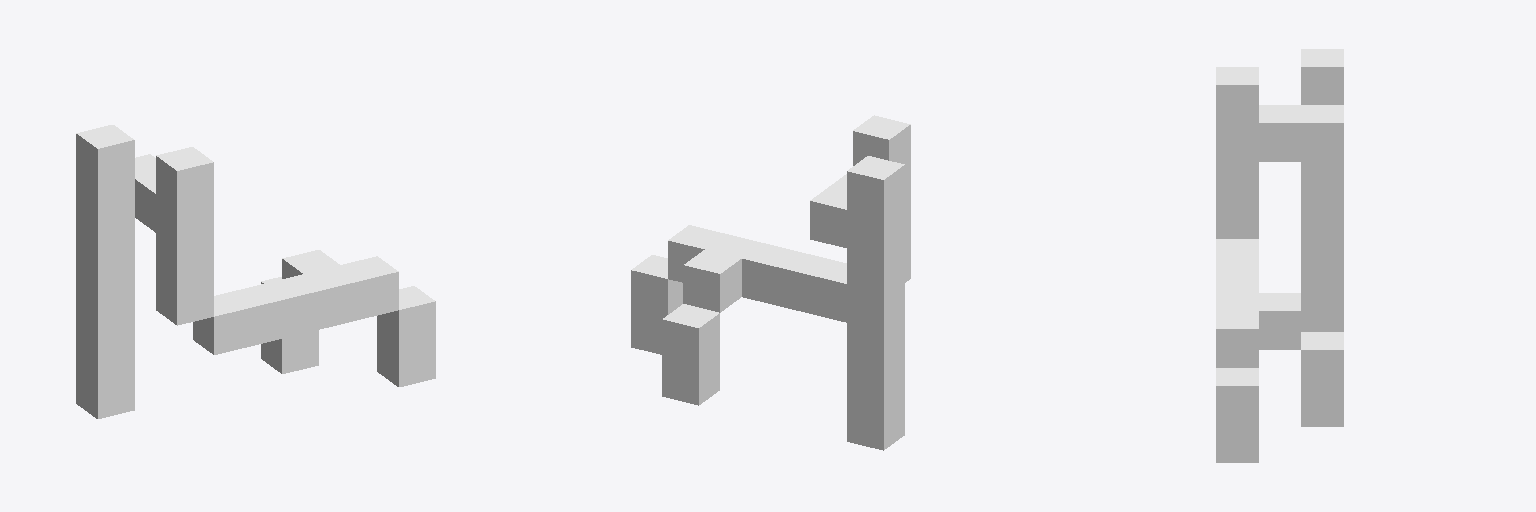
Rendered from tripasdogolem-0.obj.
3 renders of one model, left to right at view 1: azimuth 30°, elevation 25°; view 2: azimuth 150°, elevation 25°; view 3: azimuth 270°, elevation 25°, orthographic.
Visible parts, largest first — view 1: object 1; view 2: object 1; view 3: object 1.
Boxes of the visible parts, <box> form: object 1: <box>76,125,435,418</box>; object 1: <box>631,115,910,450</box>; object 1: <box>1216,49,1343,462</box>.
Size of the model in its own units: 1.6 by 1.4 by 0.6.